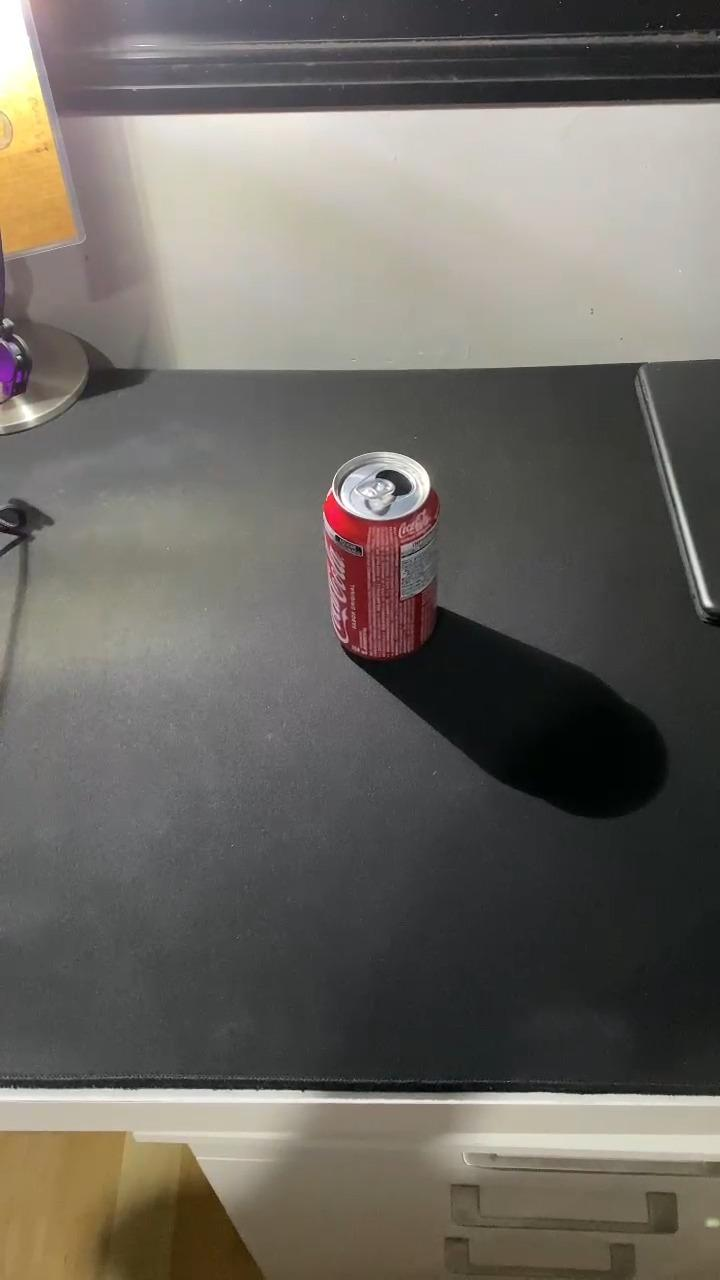coke: (319, 451, 446, 668)
